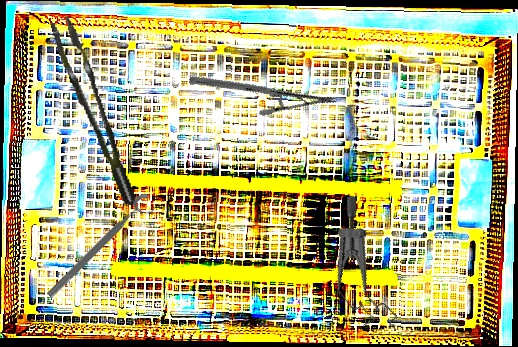Fixation Ring: (43, 190, 160, 307)
Needle Holder: (187, 29, 339, 151)
Speculum: (293, 193, 436, 343)
Tissue Forceps: (49, 10, 137, 213)
